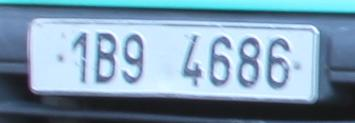1: (72, 30, 87, 81)
4: (182, 36, 201, 86)
6: (268, 37, 290, 89), (209, 36, 230, 85)
8: (239, 37, 258, 87)
9: (123, 34, 143, 83)
B: (96, 32, 115, 81)
